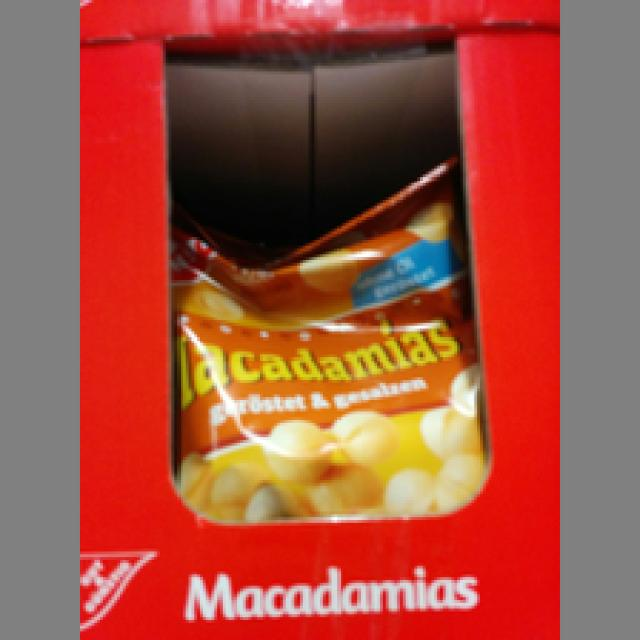groceries: (168, 160, 488, 520)
